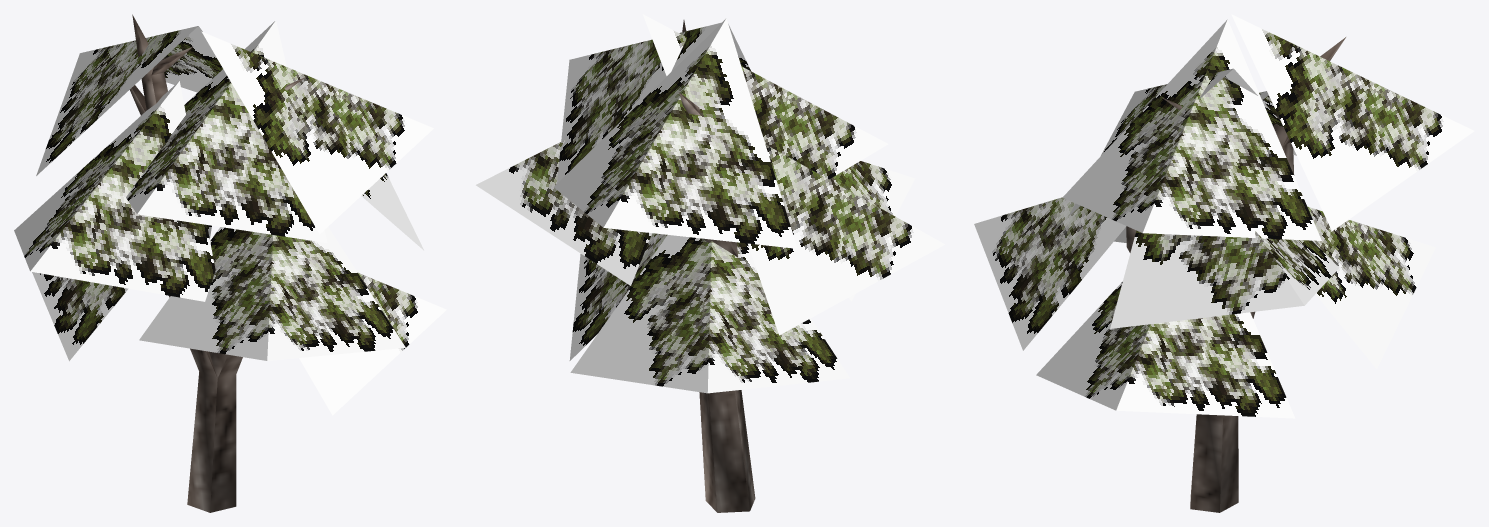
Rendered from poplarsno_1.obj.
3 views of the same model, side by side, from view 1: azimuth 30°, elevation 25°; view 2: azimuth 150°, elevation 25°; view 3: azimuth 270°, elevation 25° (orthographic). The views are drawn at different scales.
Visible parts, largest first — view 1: poplarsno_1; view 2: poplarsno_1; view 3: poplarsno_1.
Part boxes in pixels (x1,y1,x2,y2): poplarsno_1: [14, 14, 446, 512]; poplarsno_1: [476, 14, 944, 512]; poplarsno_1: [974, 14, 1474, 512].
Bounding box in the file's own units: 4.32 × 4.95 × 4.62.
